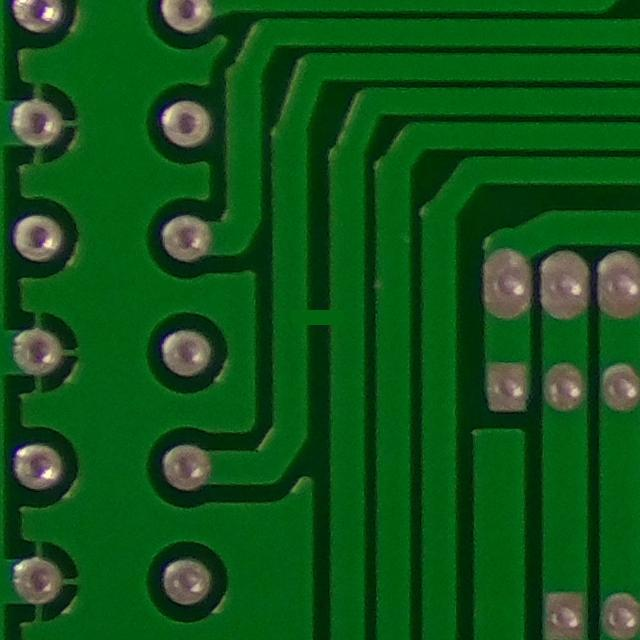short: (267, 271, 373, 369)
